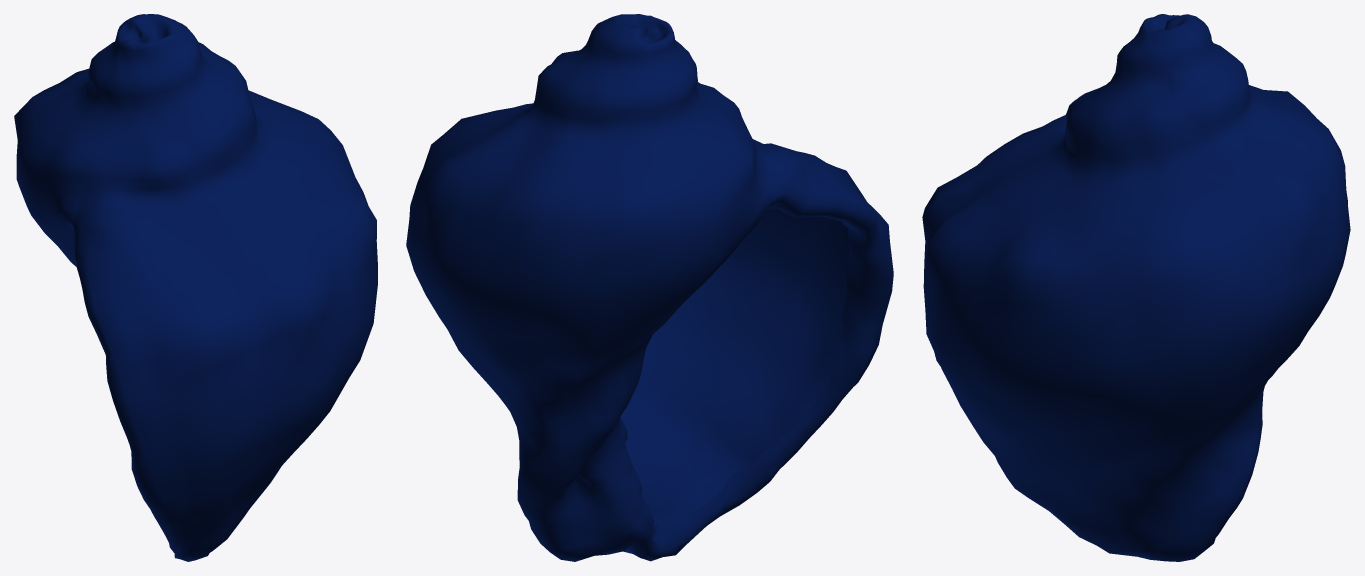
3 renders of one model, left to right at view 1: azimuth 30°, elevation 25°; view 2: azimuth 150°, elevation 25°; view 3: azimuth 270°, elevation 25°, orthographic. The views are drawn at different scales.
Visible parts, largest first — view 1: lowPolyShell; view 2: lowPolyShell; view 3: lowPolyShell.
Boxes of the visible parts, box(x1,y1,x2,y2) form: lowPolyShell: box(14, 14, 377, 561); lowPolyShell: box(406, 14, 893, 561); lowPolyShell: box(922, 14, 1350, 561).
Bounding box in the file's own units: 1.33 × 2 × 1.47.
